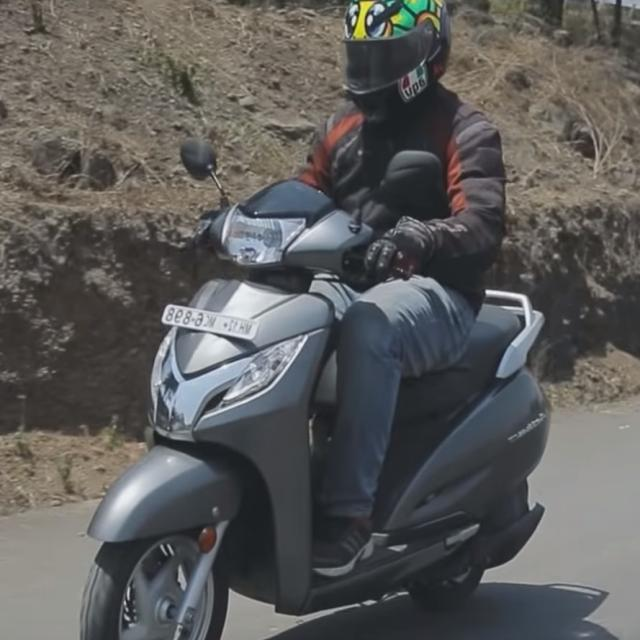helmet: (323, 6, 456, 118)
